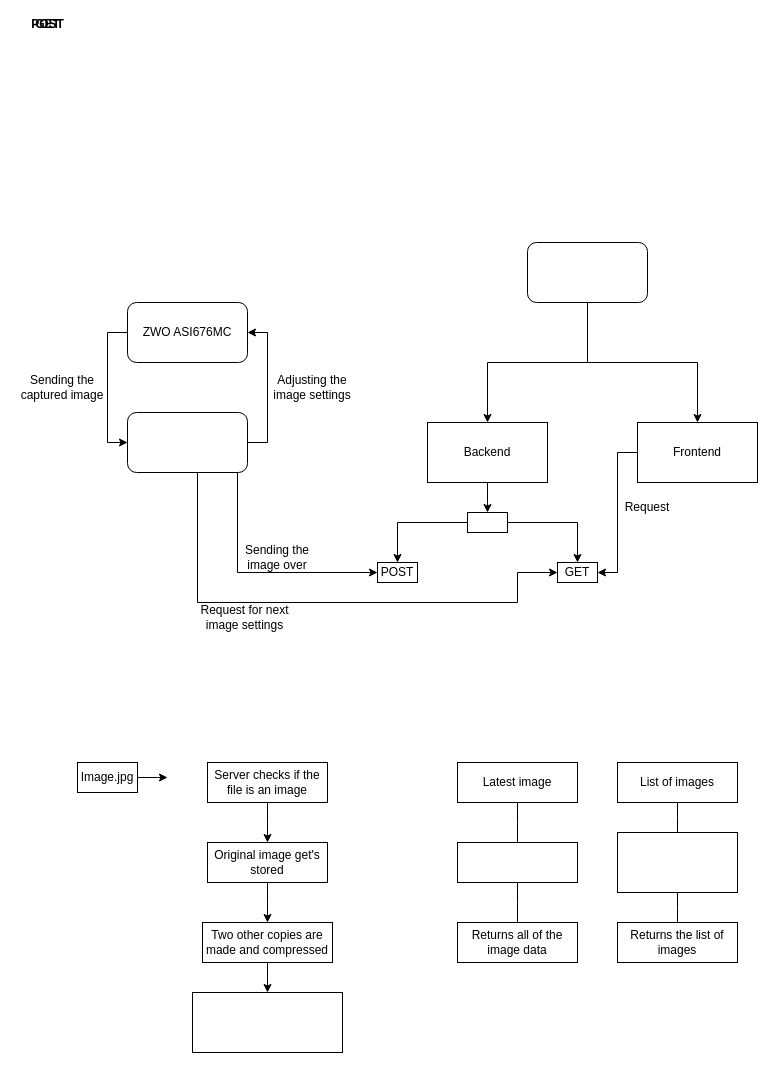
This 775x1070 diagram has some shape labels left out. Each missing label, with the centre of its shape:
"API" goes at point (487, 522).
"Image location and their metadata is stored in the SQLite DB" goes at point (267, 1022).
"Raspberry Pi 5" goes at point (187, 442).
"SQL query for all of the images from the specified date" goes at point (677, 862).
"SQL query for the latest image" goes at point (517, 862).
"Web Server" goes at point (587, 272).
